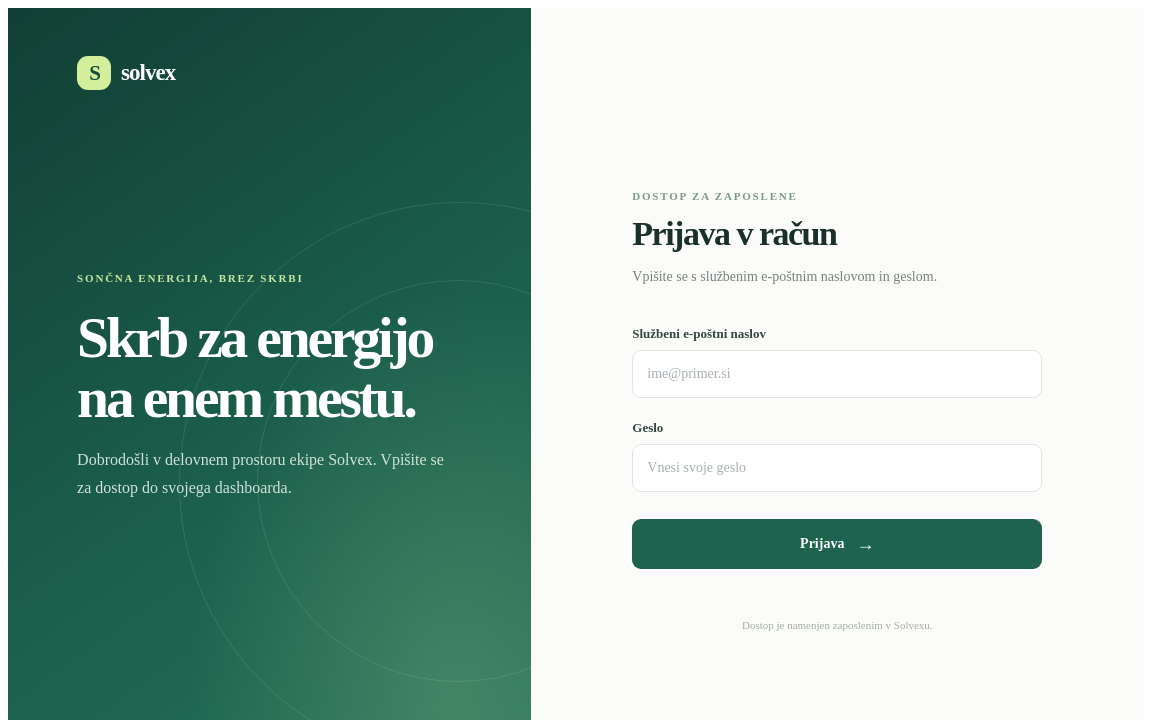
Test case: Prijava zaposlenega › po uspešni prijavi naloži dashboard in servise
Type "test@example.com" into the field labelled "Službeni e-poštni naslov". click: (837, 374)
box: [632,350,1042,398]
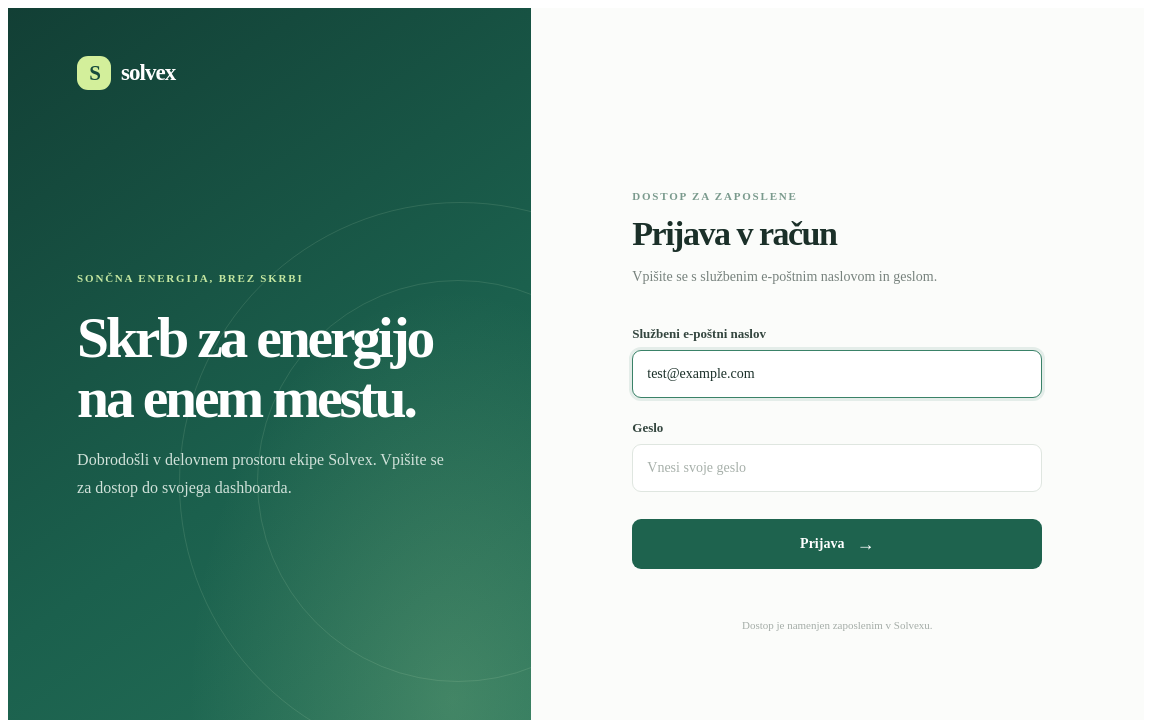
Type "TestPassword123!" into the password field labelled "Geslo". click: (837, 468)
box: [632,444,1042,492]
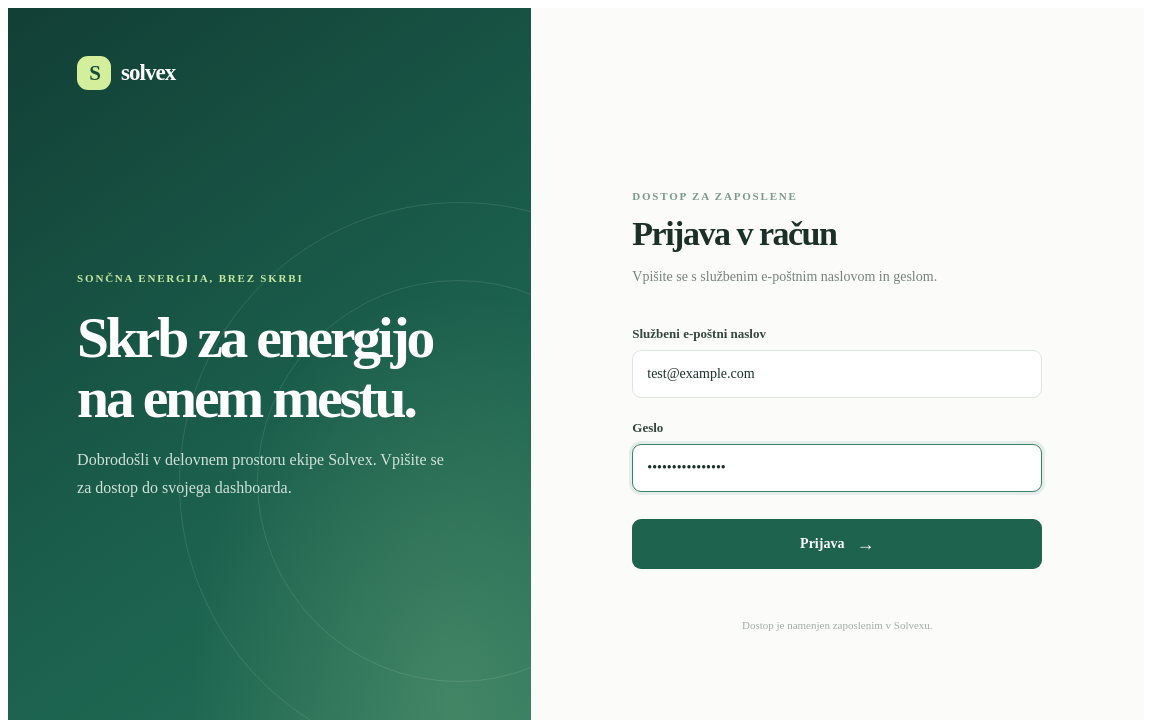
Click the button "Prijava →". click: (837, 544)
box: [632,519,1042,569]
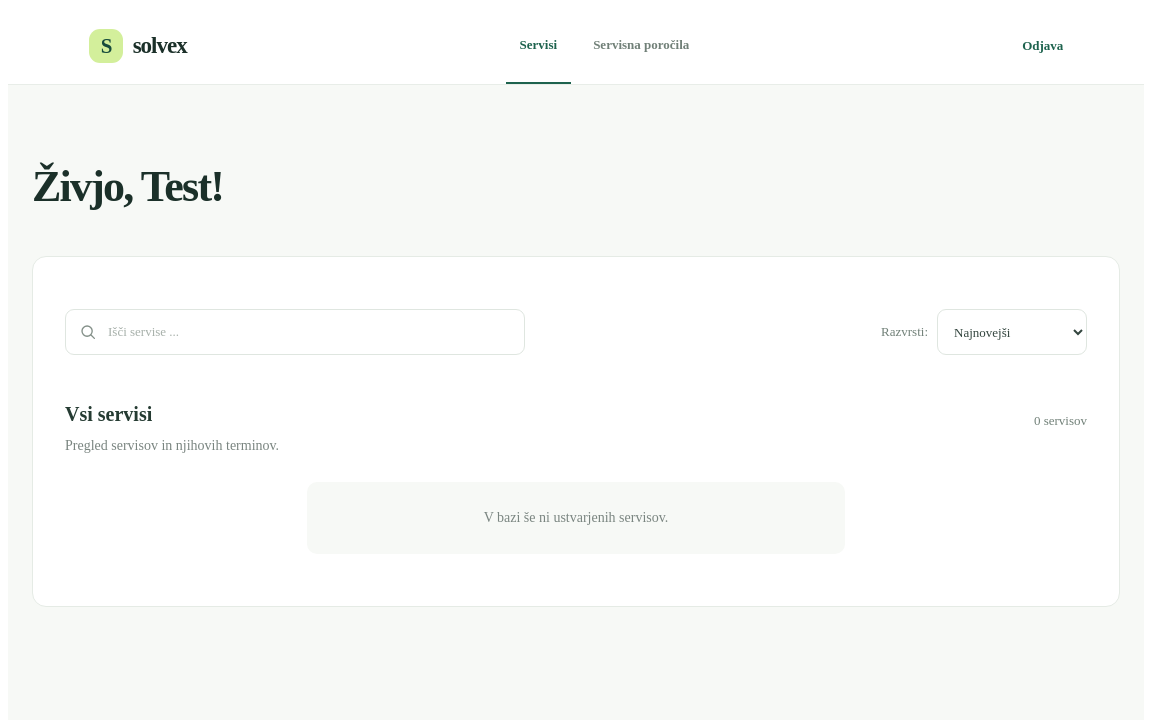
Now the heading "Živjo, Test!" is shown, box [32,162,223,211]
